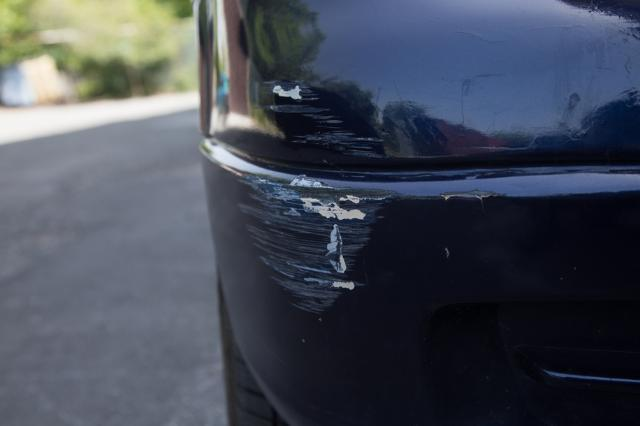Bumper: (209, 167, 400, 333)
Fender: (250, 53, 400, 177)
